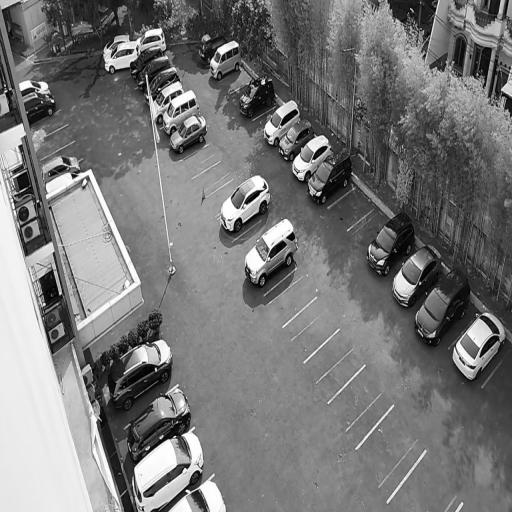Car: (127, 421, 214, 512), (104, 327, 179, 421), (408, 263, 480, 354), (122, 382, 196, 470), (445, 304, 512, 389), (240, 215, 304, 293), (386, 237, 449, 315), (361, 208, 423, 282), (217, 170, 275, 238), (303, 143, 358, 209), (288, 131, 336, 186), (166, 473, 232, 512), (234, 71, 280, 121), (260, 97, 303, 149), (166, 111, 213, 157), (274, 117, 317, 164), (162, 88, 202, 136), (206, 37, 247, 83), (149, 80, 186, 125), (141, 66, 181, 107), (134, 55, 173, 94), (128, 45, 165, 82), (23, 91, 60, 126), (103, 41, 140, 75), (196, 29, 230, 65), (40, 156, 82, 185), (45, 172, 85, 195), (101, 33, 131, 61), (135, 27, 168, 52), (18, 79, 53, 96)
Space Available: (356, 405, 426, 501), (328, 364, 394, 449), (387, 451, 462, 512), (305, 328, 365, 403), (282, 296, 339, 362), (264, 268, 316, 327), (481, 344, 512, 410), (328, 186, 374, 230), (347, 205, 389, 248), (192, 161, 234, 197), (179, 143, 221, 179), (33, 125, 75, 161), (232, 220, 267, 260), (30, 109, 68, 142), (40, 141, 82, 168), (205, 178, 239, 210), (219, 68, 254, 93), (252, 103, 280, 127)
